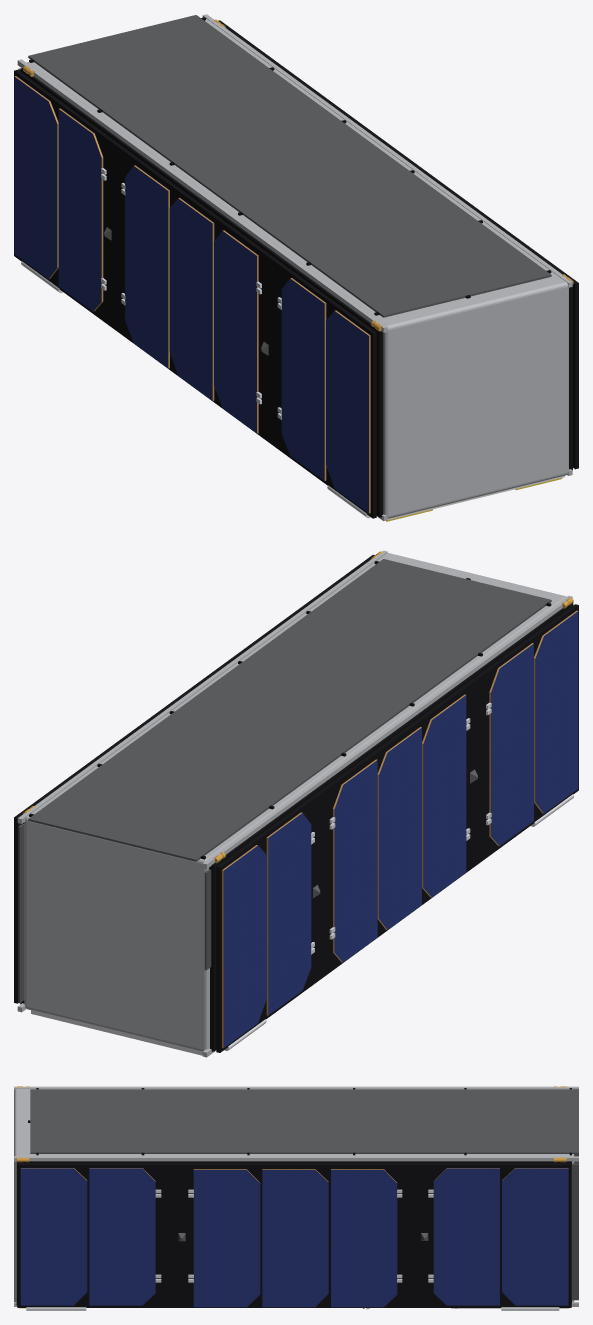
Rendered from cubesat-3u.glb.
3 renders of one model, top to bottom at view 1: azimuth 30°, elevation 25°; view 2: azimuth 150°, elevation 25°; view 3: azimuth 270°, elevation 25°, orthographic. The views are drawn at different scales.
Parts seen in each view (by area): view 1: CubeSat; view 2: CubeSat; view 3: CubeSat.
Boxes of the visible parts, left/top/right/bottom form: CubeSat: left=14, top=14, right=578, bottom=521; CubeSat: left=14, top=550, right=578, bottom=1057; CubeSat: left=14, top=1086, right=578, bottom=1310.
Bounding box in the file's own units: 0.117 × 0.106 × 0.3434.
